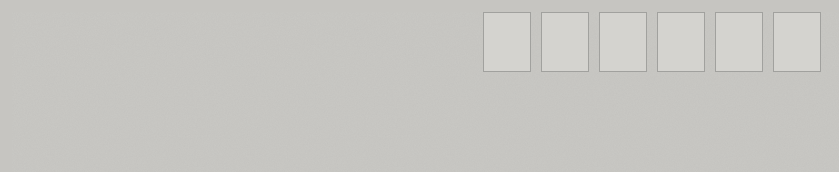
it: CodeInput › fills every box when a whole code is pasted into any of them
Click the field named "Digit 3" at coordinates (623, 42), box [599,12,647,72]
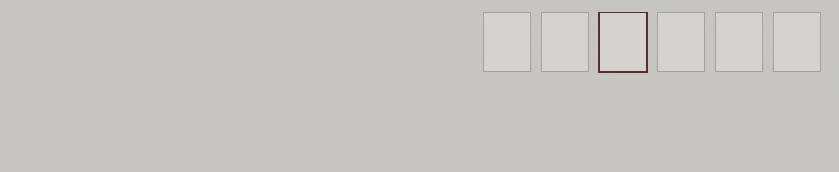
Type keys "123 456"
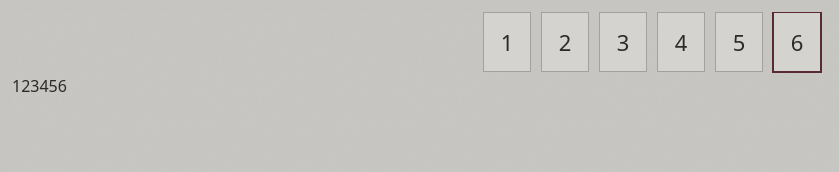
Expected: the text "123456" is shown, [12,75,67,97]
